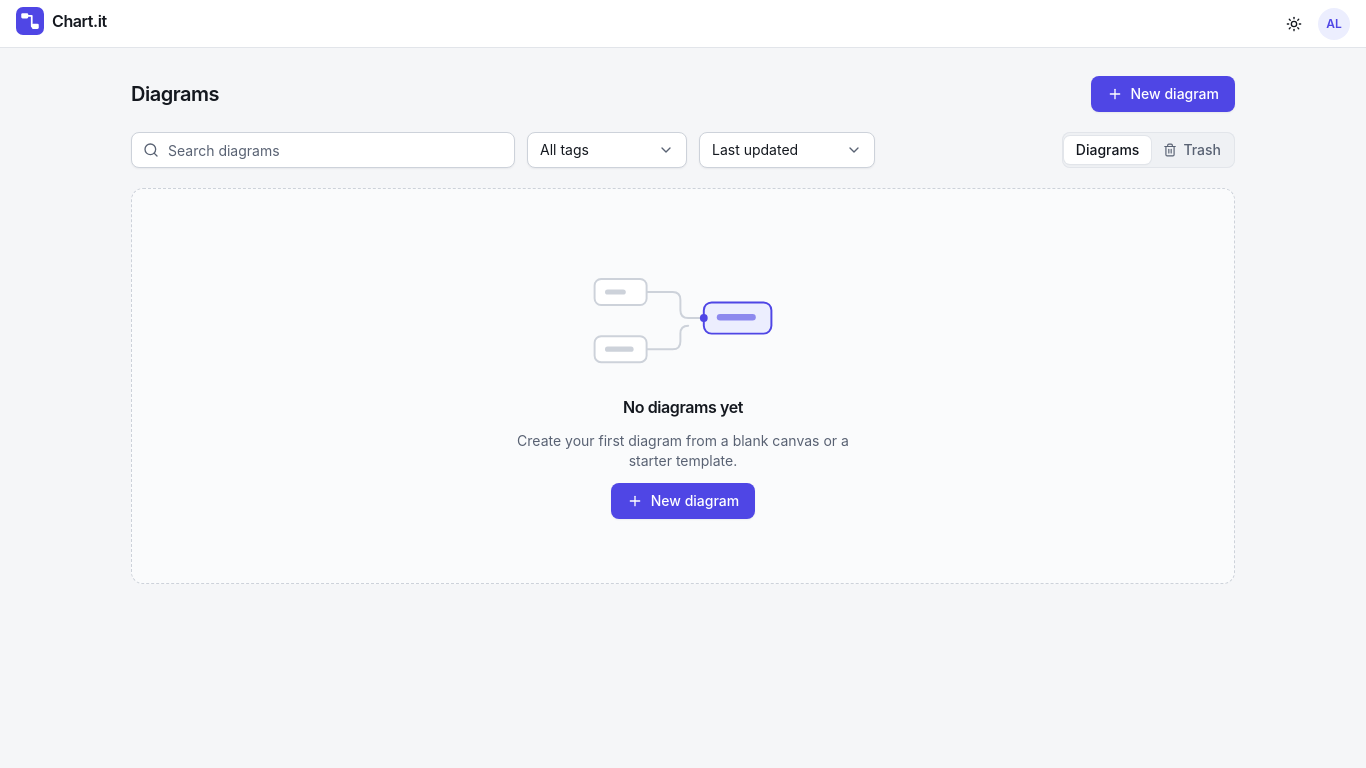
Scenario: UserMenu › offers sign out to a signed-in user
Click the button with aria-label "Account menu" at (1334, 24), box [1318,8,1350,40]
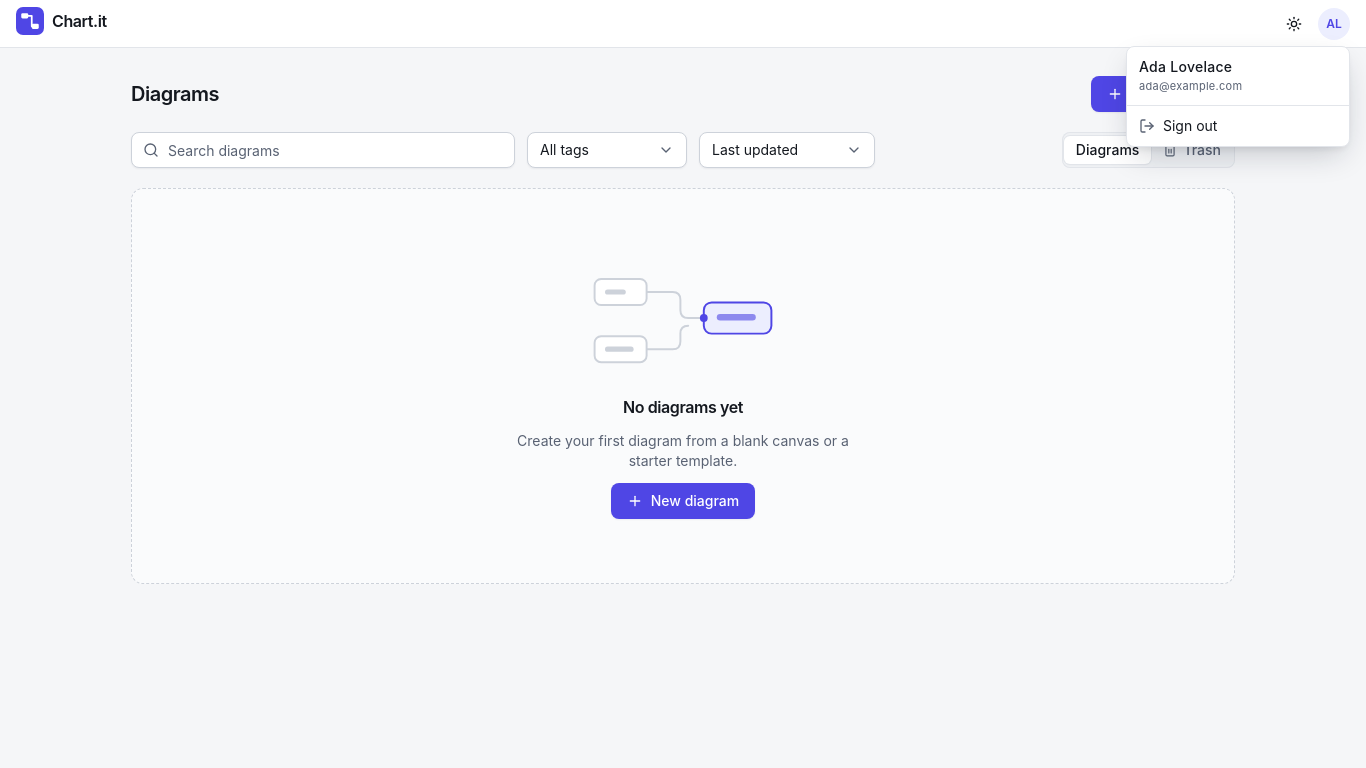
Check: the menu item "Sign out" is shown, box [1139,117,1217,134]
Check: the text "ada@example.com" is shown, box [1139,79,1242,93]
